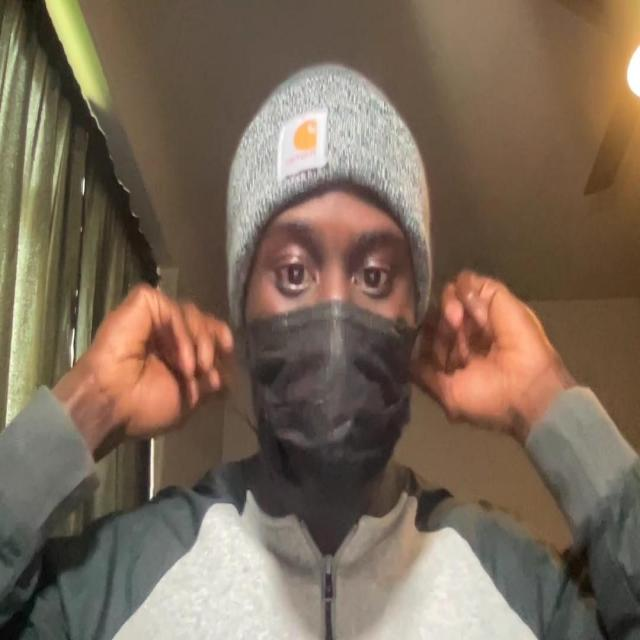face: (224, 69, 428, 492)
